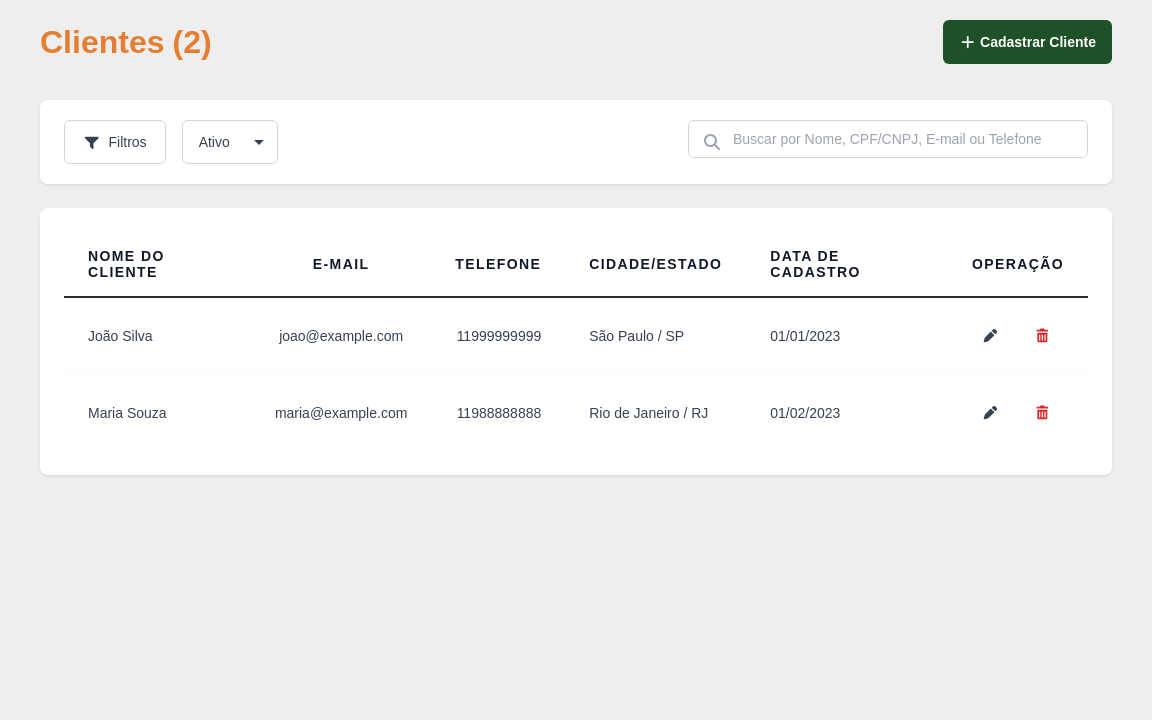
Test: Clients Page › should handle client deletion success
Expected: the text "João Silva" is shown, [64, 297, 251, 374]
Click the button named "Deletar" in the row of "João Silva" at (1042, 336), box [1024, 318, 1060, 354]
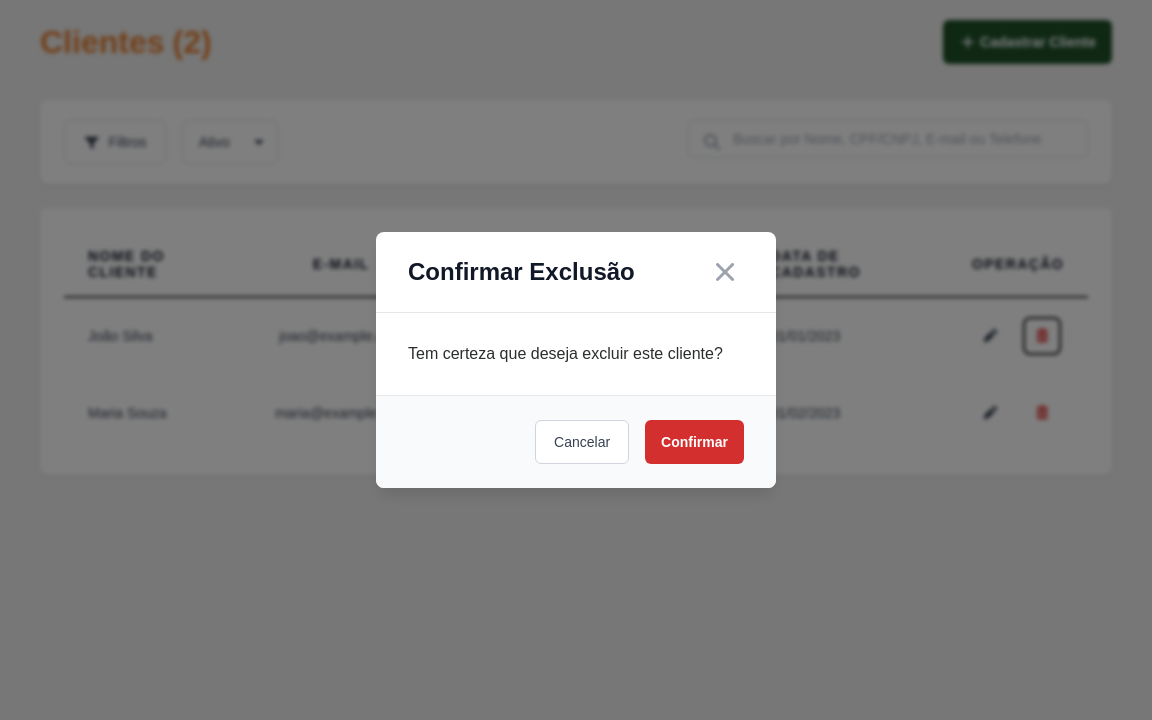
Click the button "Confirmar" at (695, 442), box [645, 420, 744, 464]
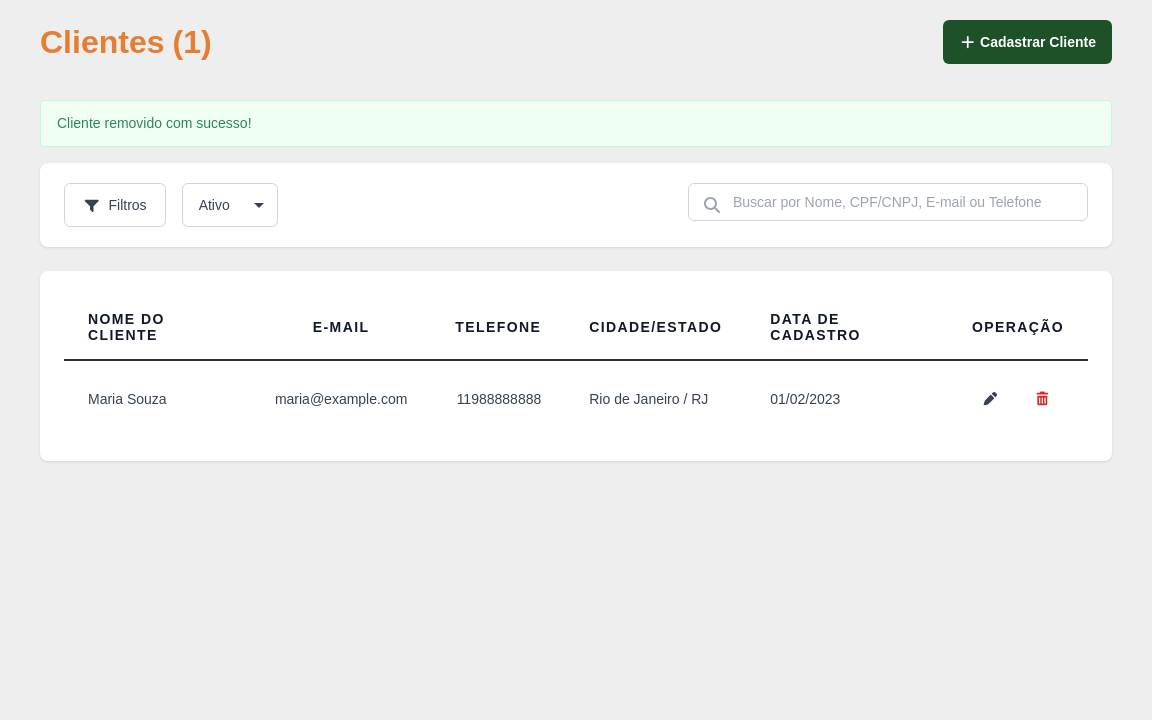
Result: the text "Cliente removido com sucesso!" is shown at [40, 100, 1112, 147]
Result: the text "João Silva" is gone
